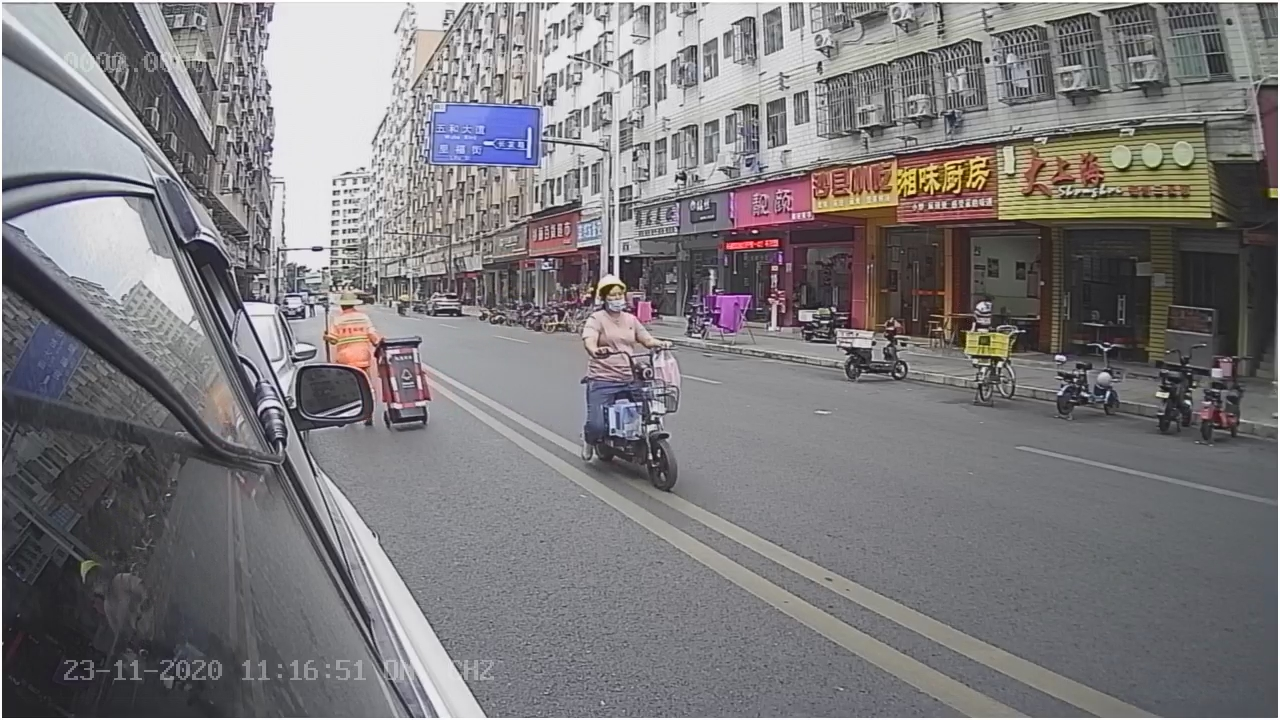person: (575, 267, 668, 351)
